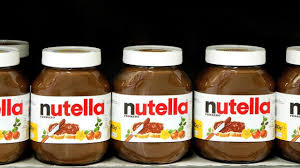nutella: (112, 44, 194, 165), (30, 44, 111, 166), (194, 44, 276, 164)
